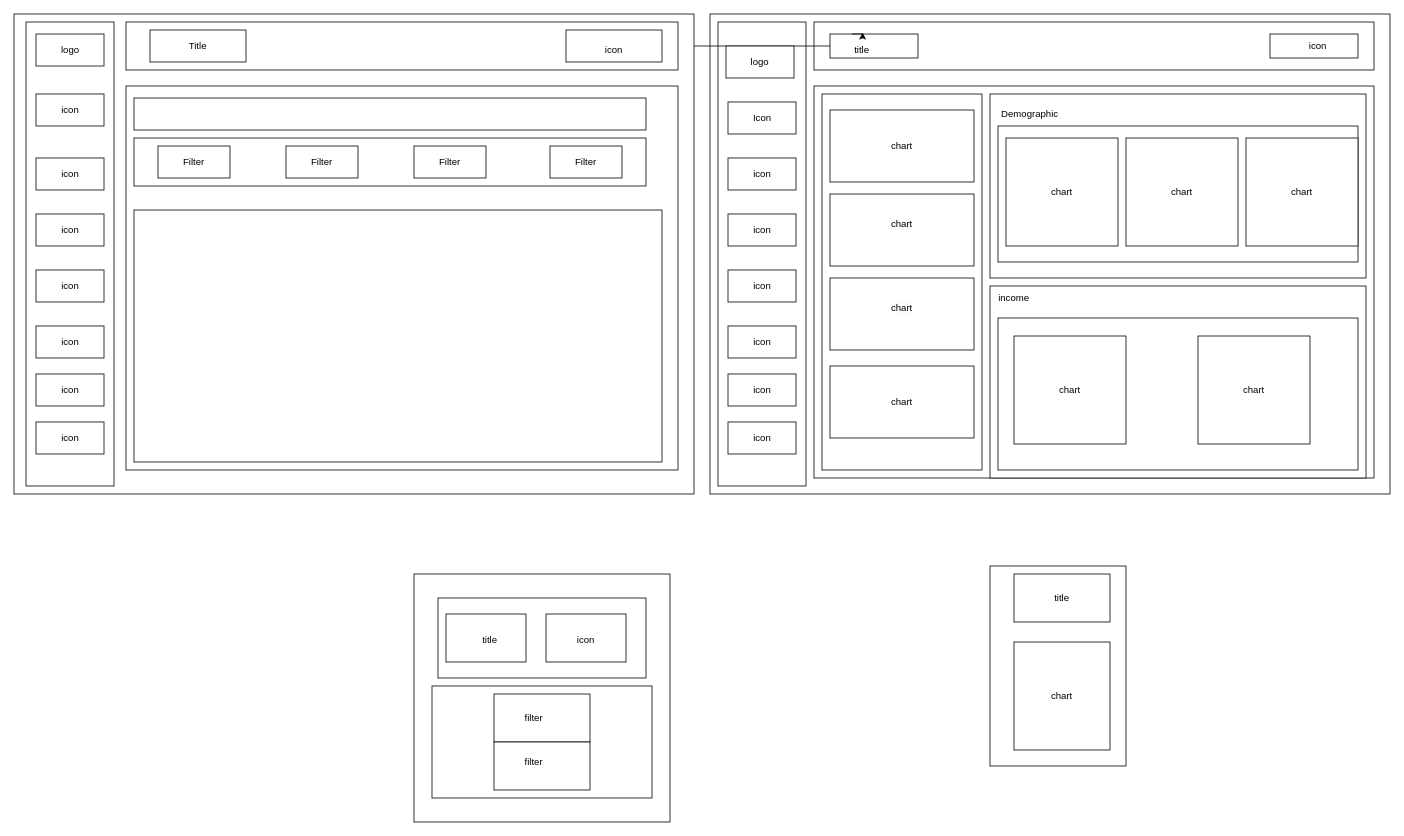
This 1404x836 diagram has some shape labels left out. The centre of each missing label's shape, as x and y in pixels:
Employee List: (389,113)
list: (397,335)
